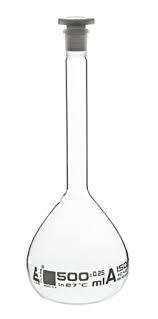Volumetric flask: (13, 11, 132, 297)
